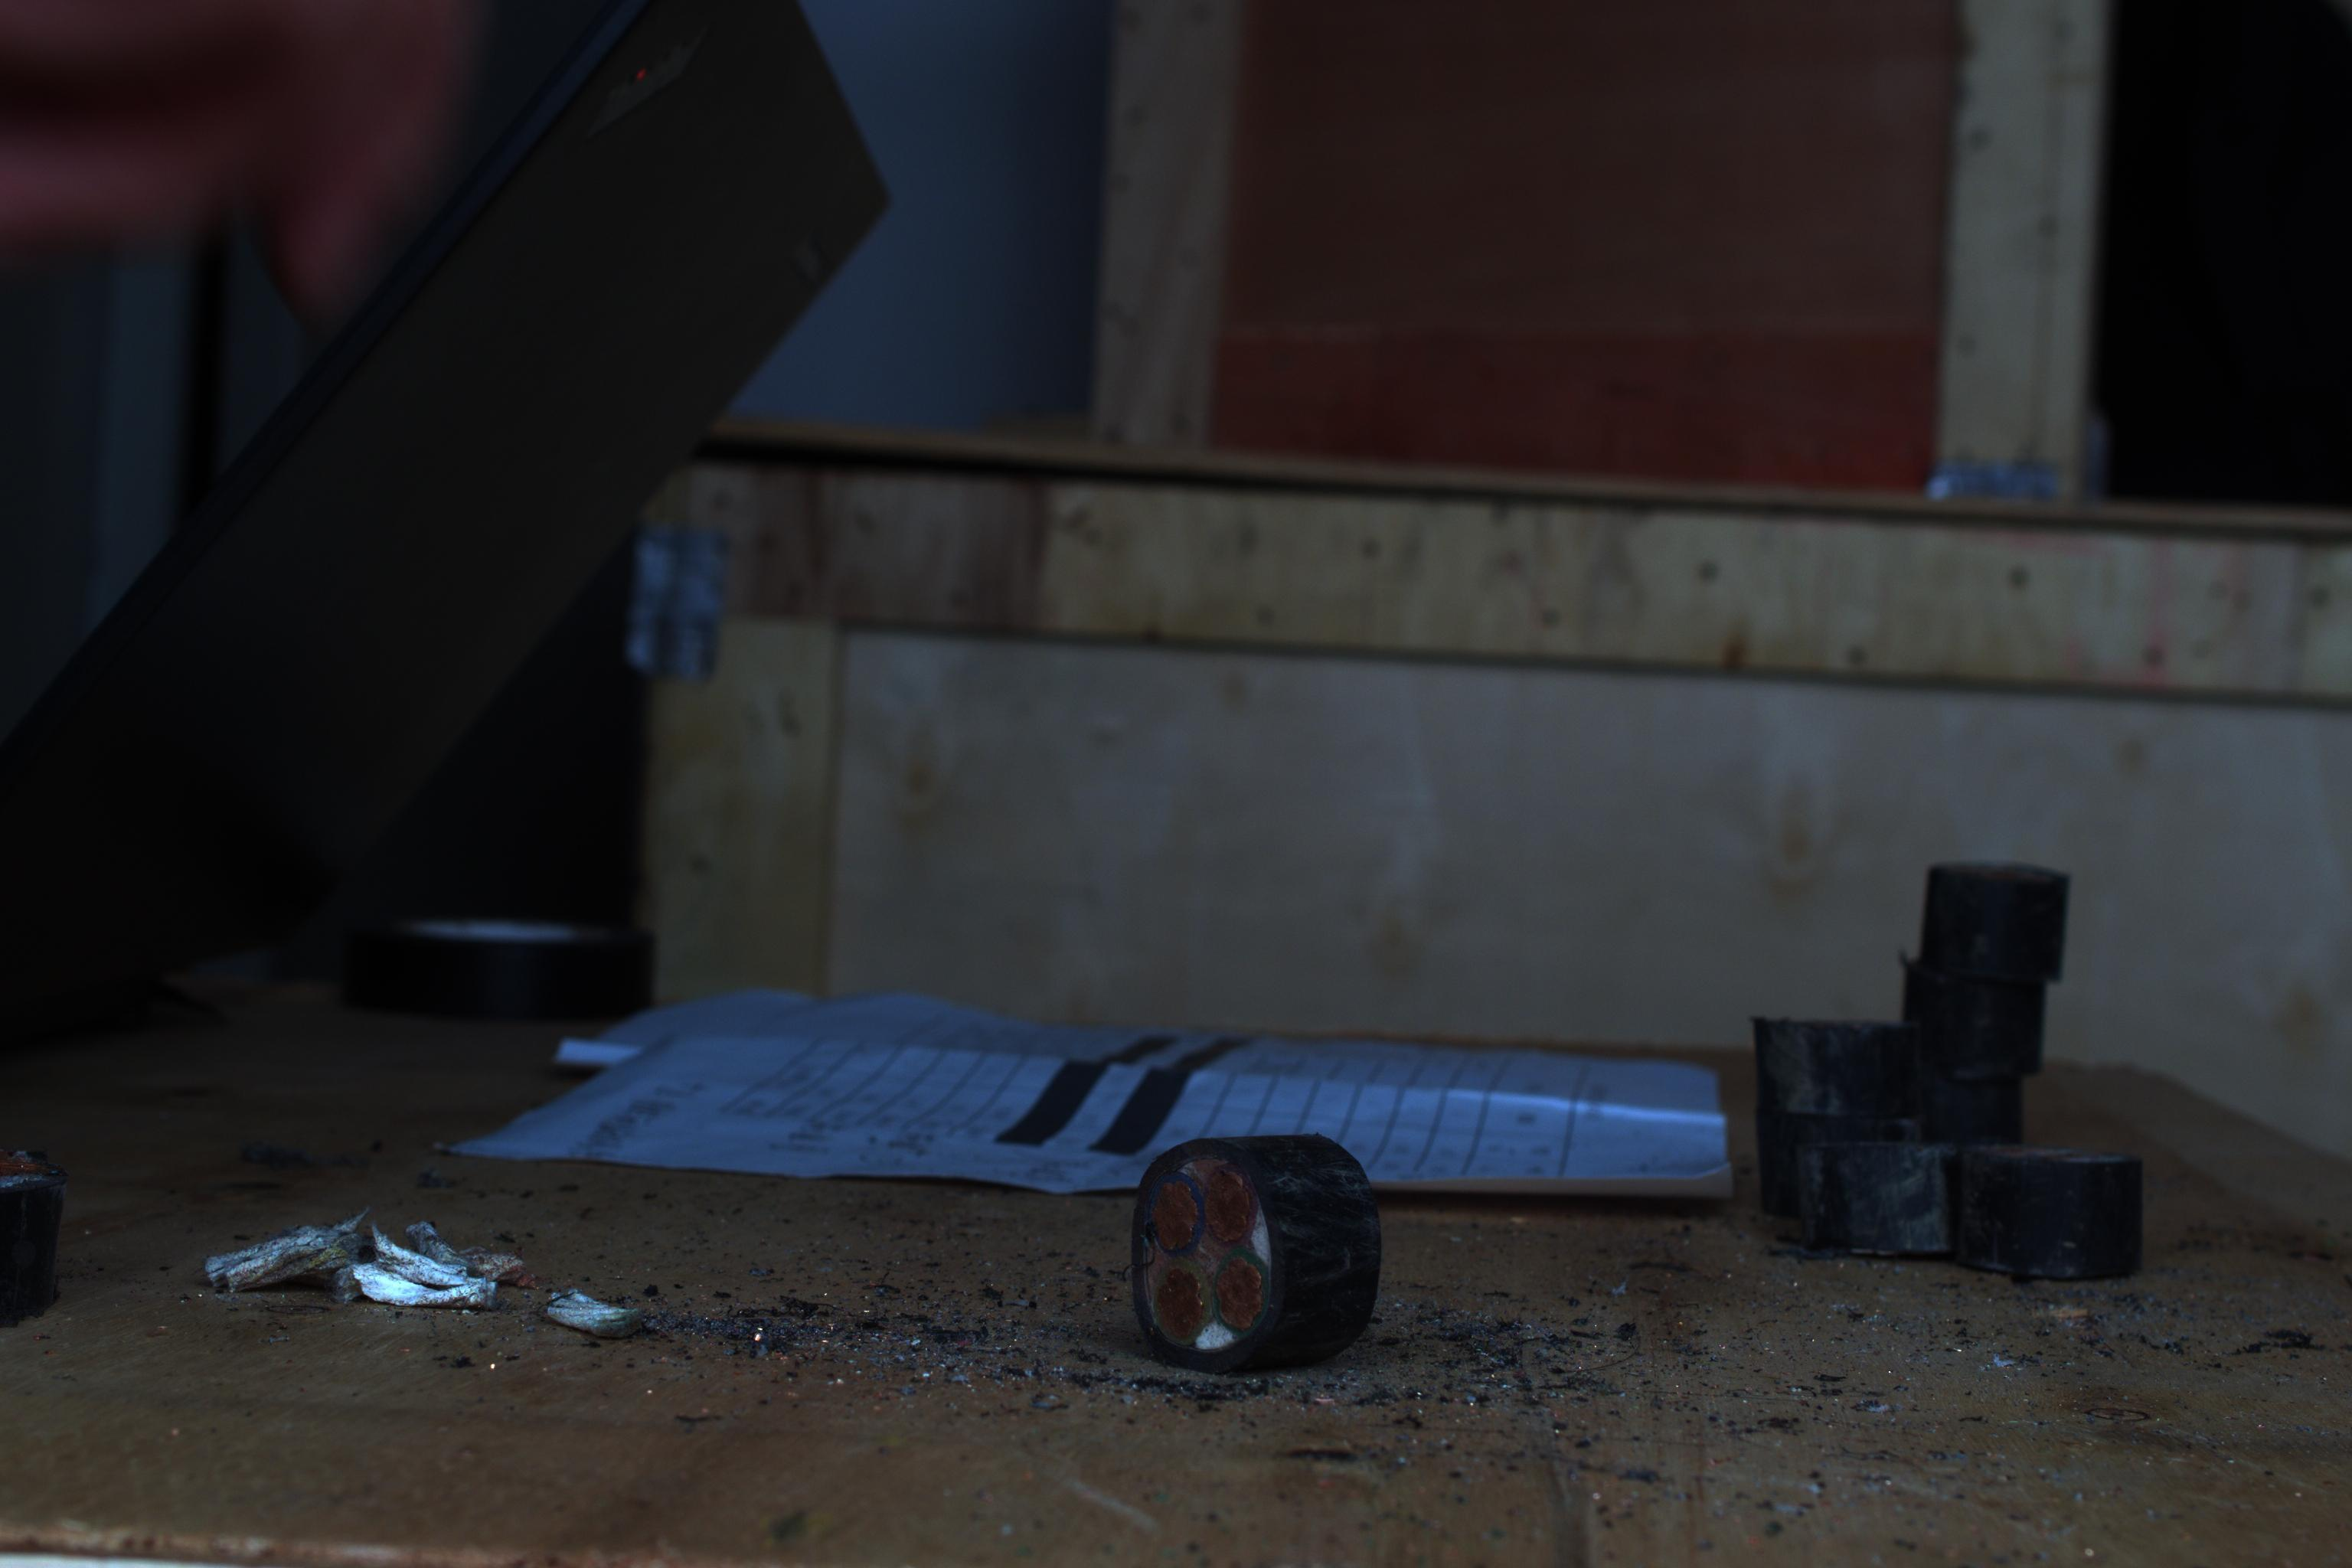YJV_0.6_1kV_4x35: (1092, 1127, 1298, 1353)
